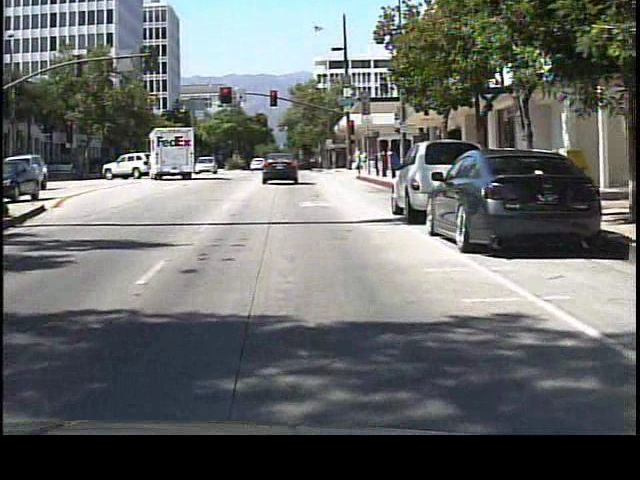person: (350, 146, 367, 181)
